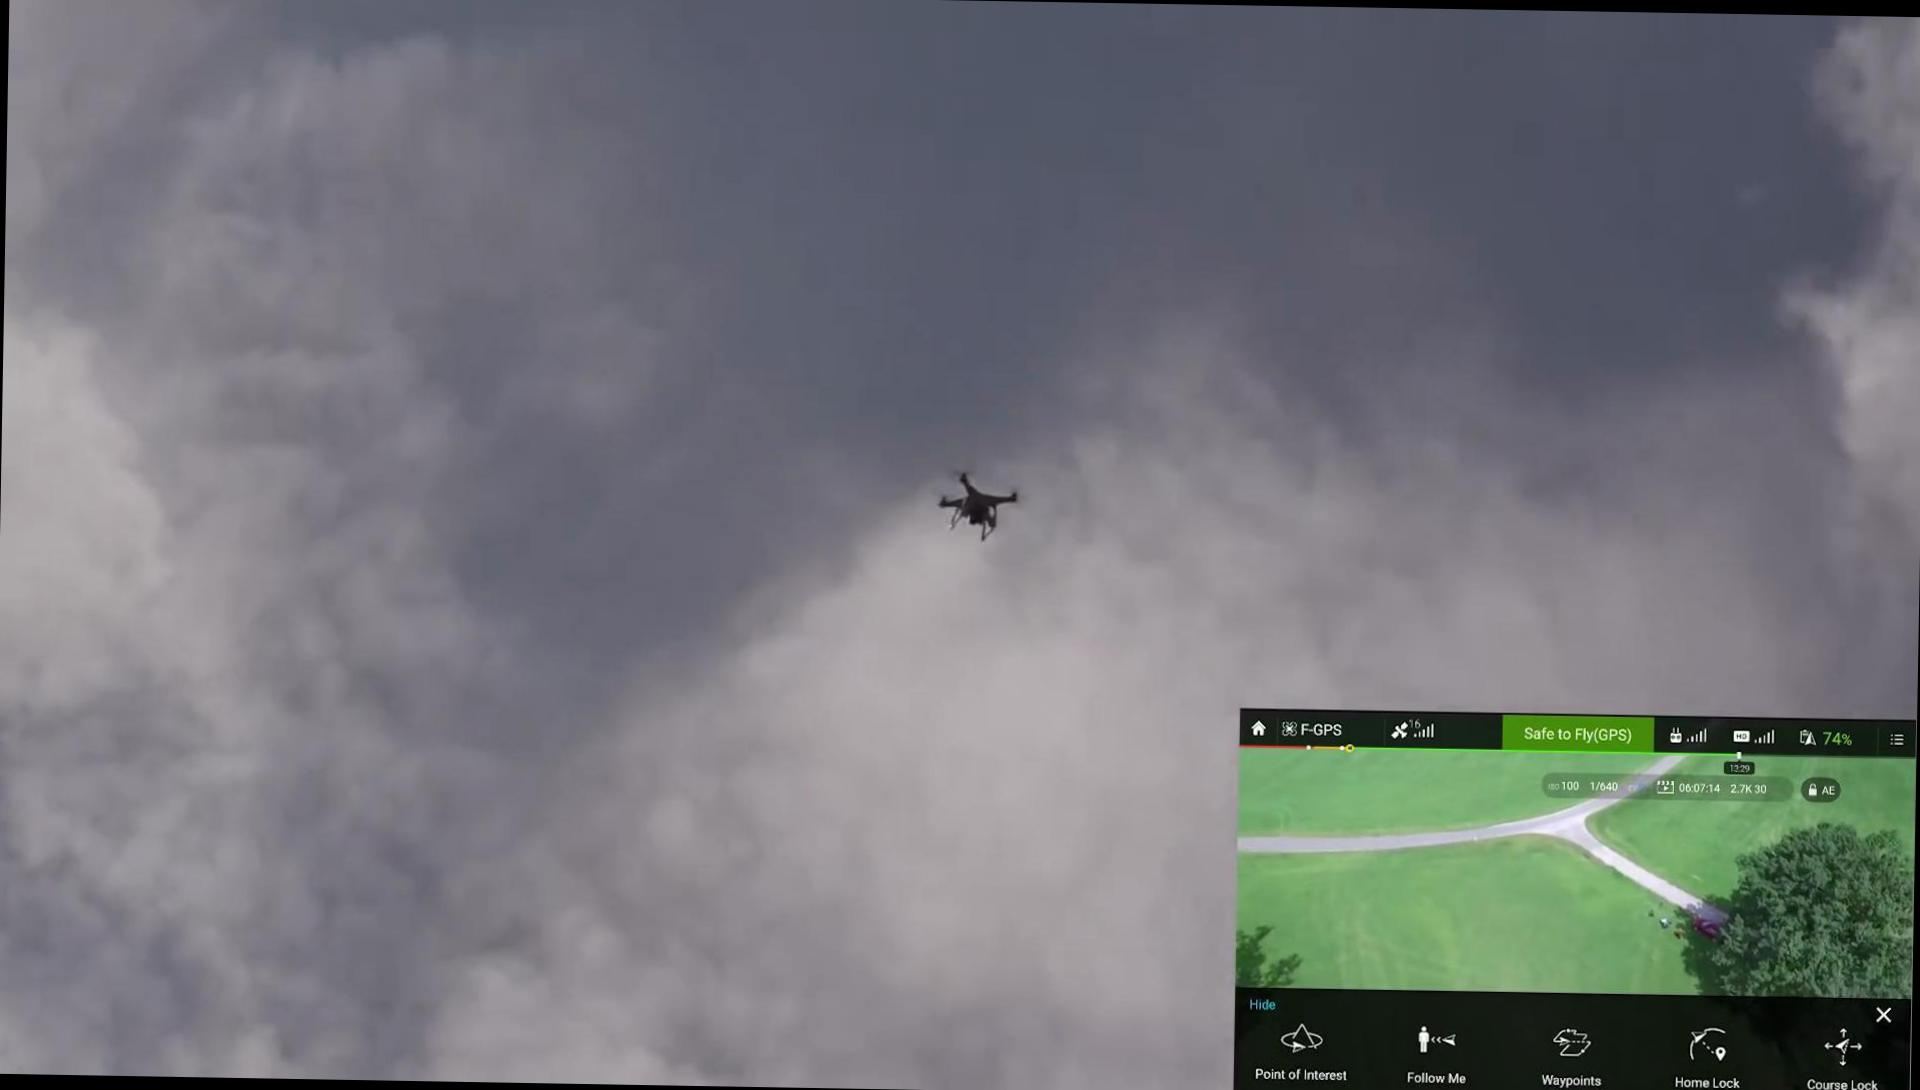drone: (923, 459, 1023, 538)
